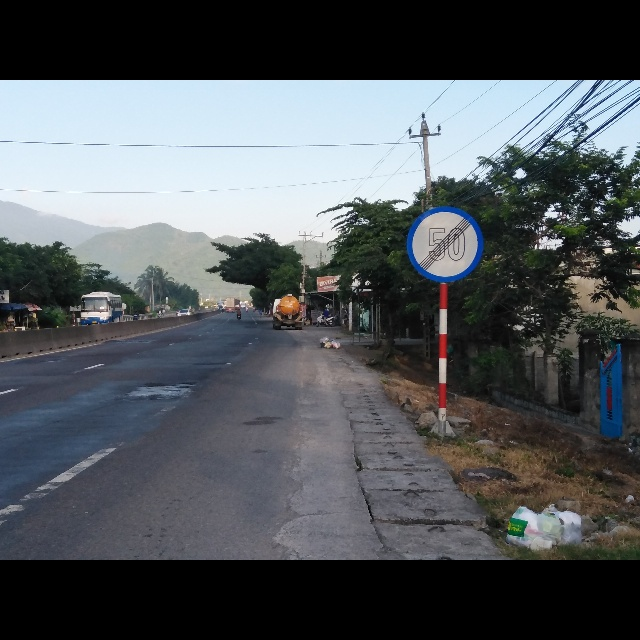Hết hạn chế tốc độ tối đa 50km/h: (406, 204, 485, 282)
